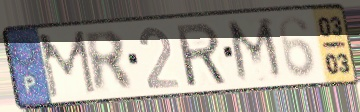2: (136, 24, 184, 91)
6: (276, 14, 318, 81)
M: (36, 28, 99, 102), (224, 15, 288, 86)
R: (173, 20, 230, 89), (81, 29, 138, 96)
